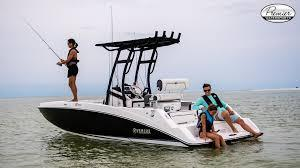fishing boat: (36, 9, 266, 150)
